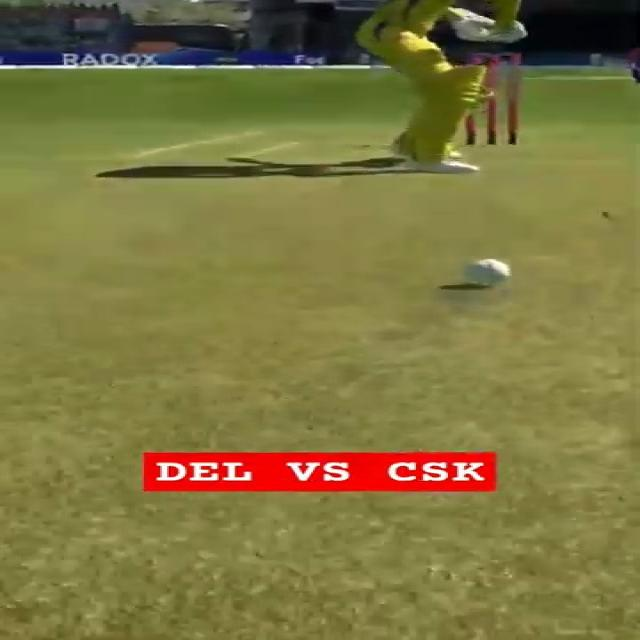ball: (462, 258, 512, 286)
